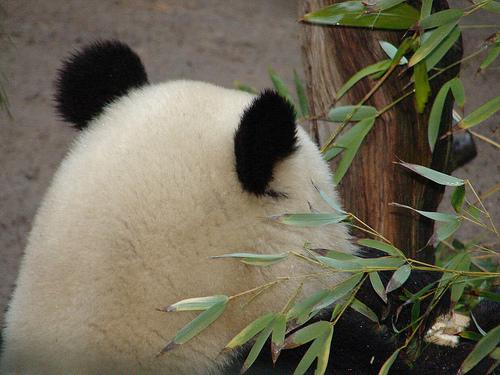panda: (0, 40, 356, 373)
